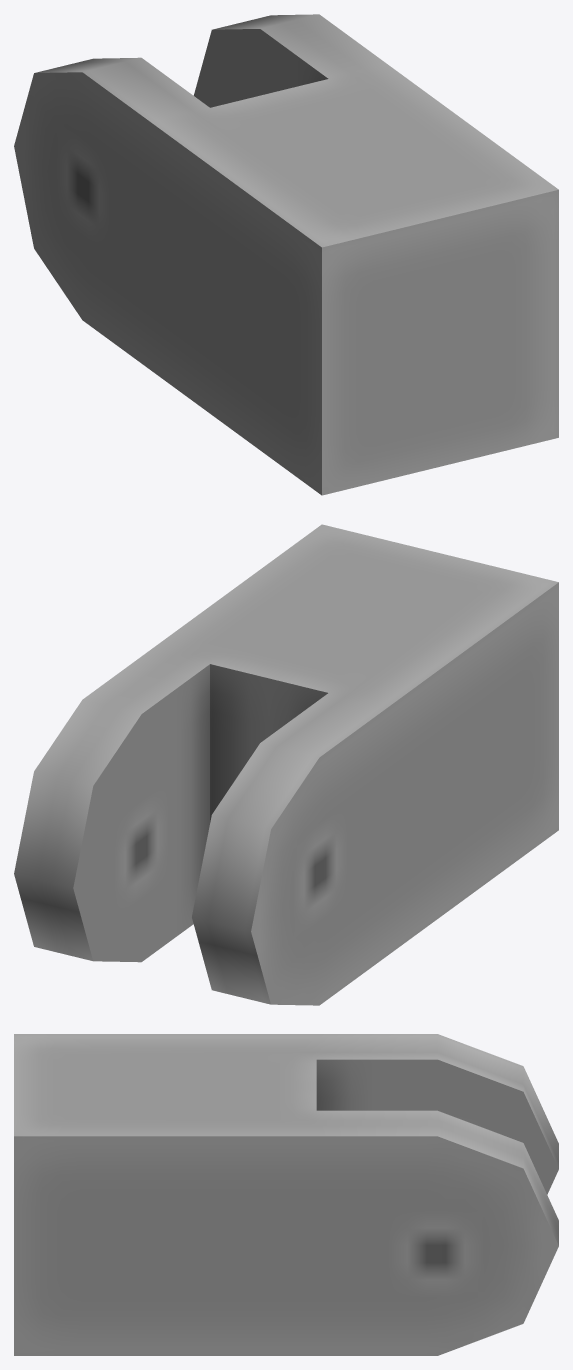
The model's file is Alniyat_Antenna_2_Base_2.obj.
The picture shows the model from 3 angles, top to bottom: view 1: azimuth 30°, elevation 25°; view 2: azimuth 150°, elevation 25°; view 3: azimuth 270°, elevation 25°; orthographic projection. The views are drawn at different scales.
Visible parts, largest first — view 1: Alniyat_Antenna_2_Base_2; view 2: Alniyat_Antenna_2_Base_2; view 3: Alniyat_Antenna_2_Base_2.
Part boxes in pixels (x1,y1,x2,y2): Alniyat_Antenna_2_Base_2: (14, 14, 558, 495); Alniyat_Antenna_2_Base_2: (14, 524, 558, 1005); Alniyat_Antenna_2_Base_2: (14, 1034, 558, 1355).
Size of the model in its own units: 0.05 by 0.05 by 0.1125.
